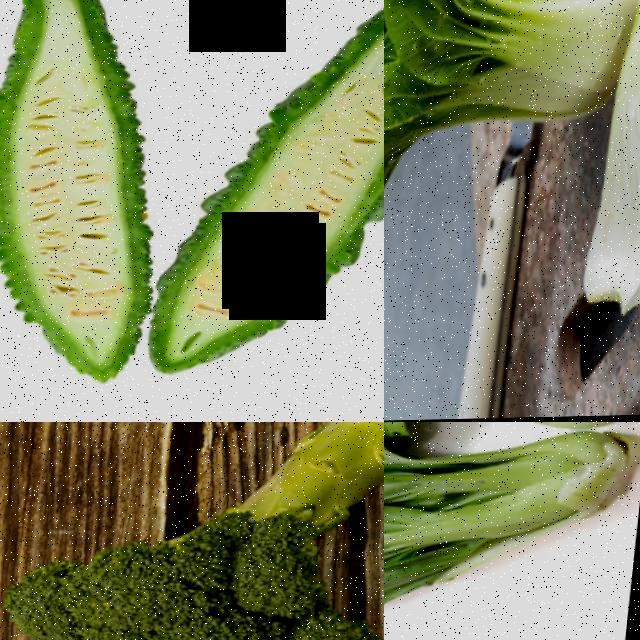bitter gourd: (163, 0, 384, 389), (0, 0, 187, 422)
bok choy: (384, 0, 640, 207), (384, 422, 640, 609)
broccoli: (21, 422, 384, 640)
